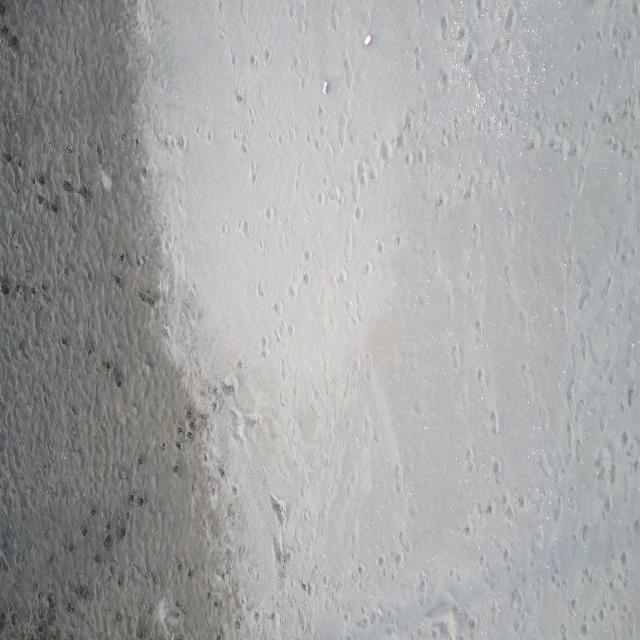tin-and-aluminum-cans: (364, 34, 372, 47), (322, 80, 328, 96)
